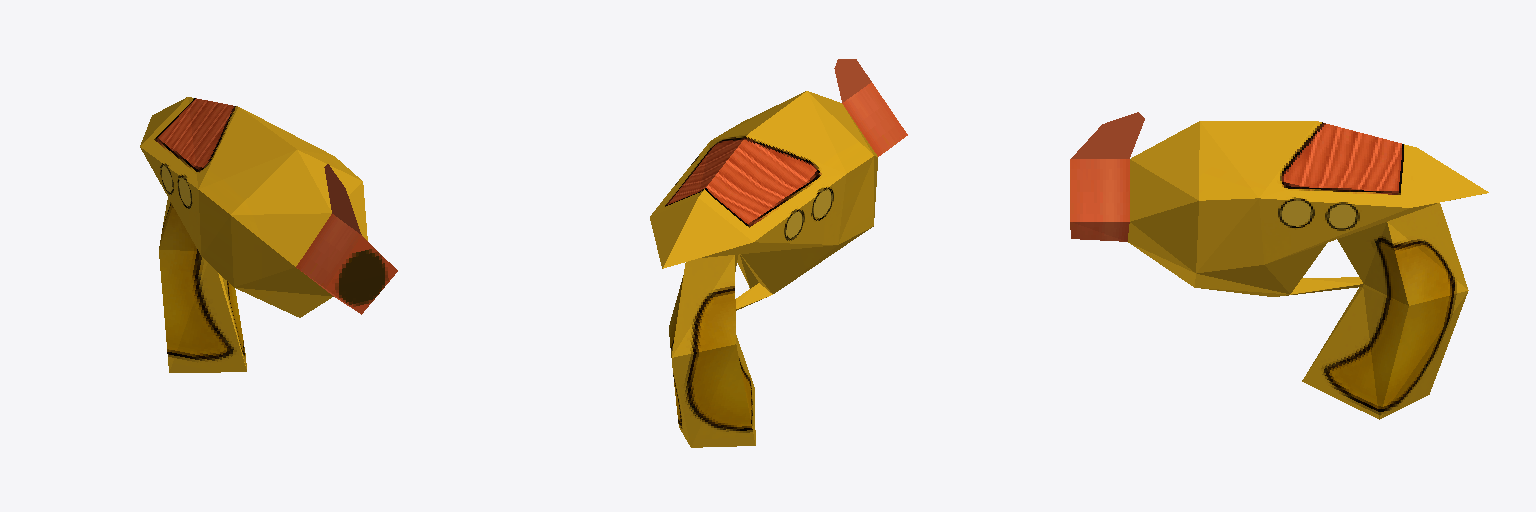
3 renders of one model, left to right at view 1: azimuth 30°, elevation 25°; view 2: azimuth 150°, elevation 25°; view 3: azimuth 270°, elevation 25°, orthographic.
Visible parts, largest first — view 1: OARGUNout; view 2: OARGUNout; view 3: OARGUNout.
Part boxes in pixels (bbox=[...]): OARGUNout: bbox=[140, 97, 397, 372]; OARGUNout: bbox=[650, 59, 907, 447]; OARGUNout: bbox=[1070, 112, 1488, 419].
Size of the model in its own units: 0.1946 by 0.3945 by 0.5188.
1 materials, 1 textured.